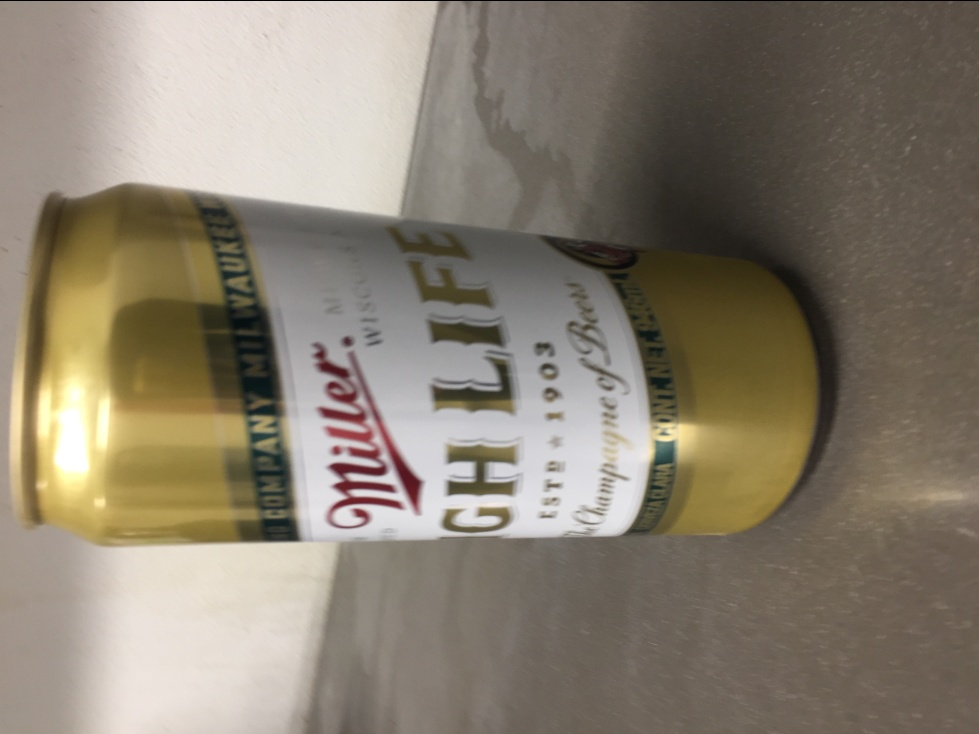miller: (8, 176, 823, 549)
